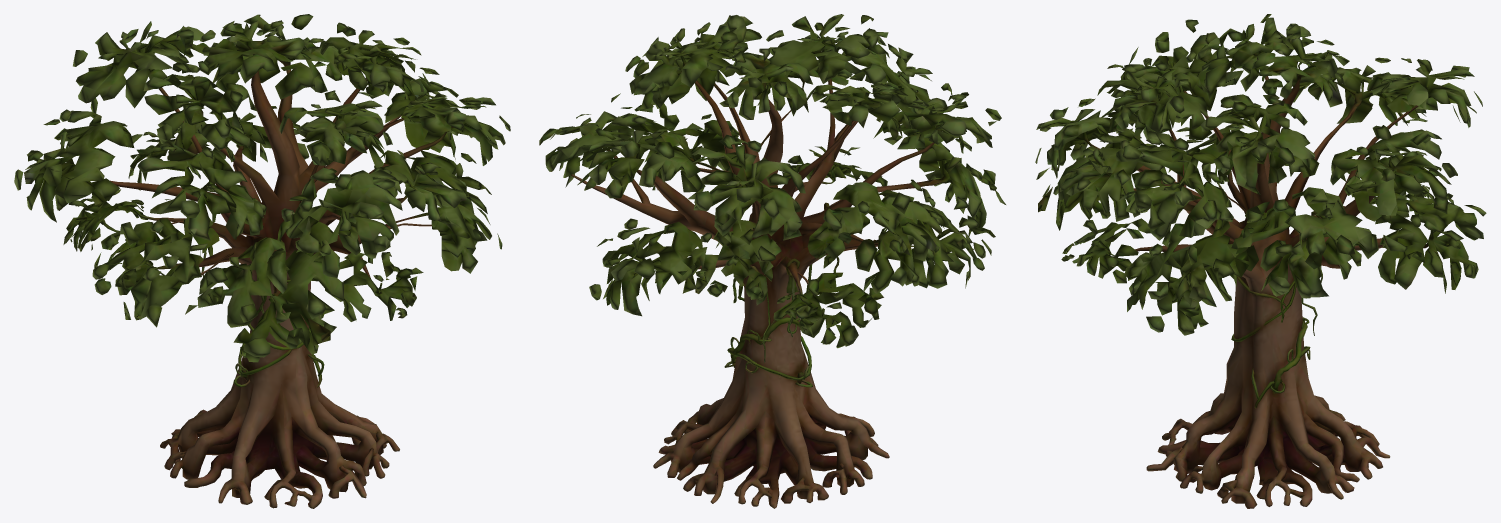
Rendered from jun_kapok_tree_buttress_LOD0.glb.
3 views of the same model, side by side, from view 1: azimuth 30°, elevation 25°; view 2: azimuth 150°, elevation 25°; view 3: azimuth 270°, elevation 25° (orthographic). The views are drawn at different scales.
Parts seen in each view (by area): view 1: tripo_node_eeae2858-041e-427f-a393-b277f6530104; view 2: tripo_node_eeae2858-041e-427f-a393-b277f6530104; view 3: tripo_node_eeae2858-041e-427f-a393-b277f6530104.
Part boxes in pixels (x1=…): tripo_node_eeae2858-041e-427f-a393-b277f6530104: x1=14, y1=14, x2=510, y2=508; tripo_node_eeae2858-041e-427f-a393-b277f6530104: x1=539, y1=14, x2=1005, y2=508; tripo_node_eeae2858-041e-427f-a393-b277f6530104: x1=1035, y1=14, x2=1486, y2=508.
Bounding box in the file's own units: 0.998 × 0.9902 × 0.9805.
Materials: 1 (1 with a texture image).
